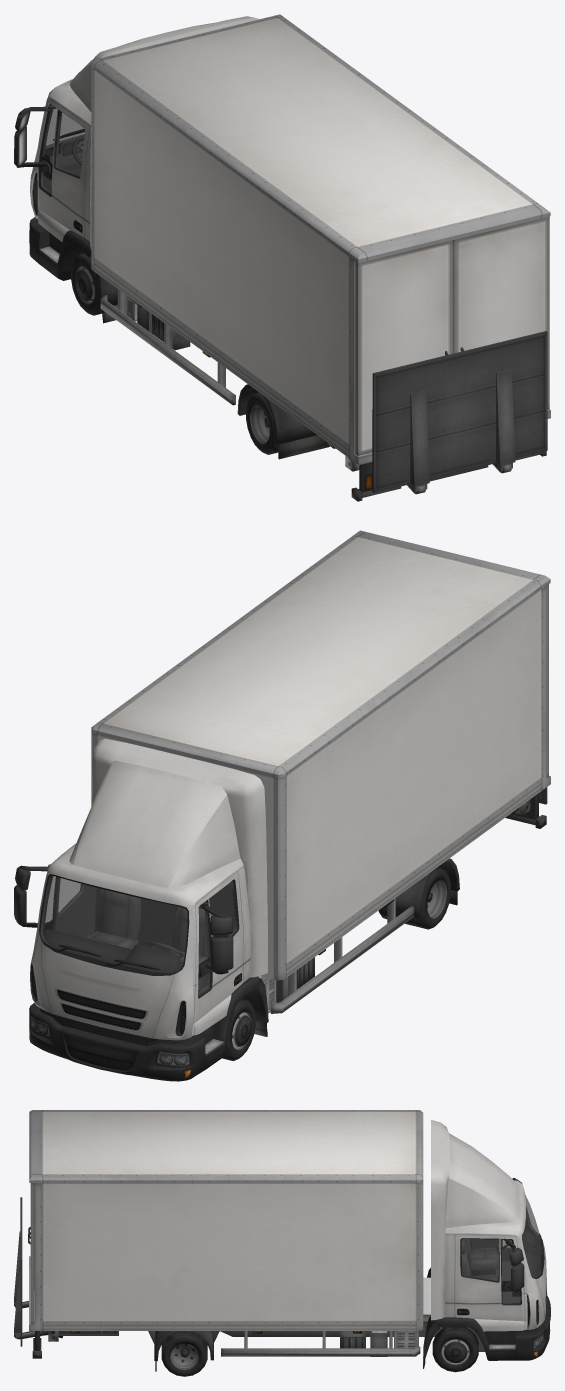
File: 小货车Draco.glb
3 renders of one model, top to bottom at view 1: azimuth 30°, elevation 25°; view 2: azimuth 150°, elevation 25°; view 3: azimuth 270°, elevation 25°, orthographic. The views are drawn at different scales.
Parts seen in each view (by area): view 1: MediumTruck01_MediumTruck01_0, Elevator02_MediumTruck01_0, DoorL_MediumTruck01_0, DoorR_MediumTruck01_0, MediumTruck01_MediumTruck01Glass_0, WheelBL007_MediumTruck01_0, WheelFL007_MediumTruck01_0; view 2: MediumTruck01_MediumTruck01_0, MediumTruck01_MediumTruck01Glass_0, WheelBL007_MediumTruck01_0, WheelFL007_MediumTruck01_0; view 3: MediumTruck01_MediumTruck01_0, MediumTruck01_MediumTruck01Glass_0, WheelFR006_MediumTruck01_0, WheelBR007_MediumTruck01_0, Elevator02_MediumTruck01_0, DoorR_MediumTruck01_0.
Part boxes in pixels (left/top/right/bottom): MediumTruck01_MediumTruck01_0: left=14, top=14, right=550, bottom=501; Elevator02_MediumTruck01_0: left=372, top=331, right=547, bottom=492; DoorL_MediumTruck01_0: left=355, top=240, right=453, bottom=455; DoorR_MediumTruck01_0: left=453, top=216, right=549, bottom=409; MediumTruck01_MediumTruck01Glass_0: left=41, top=108, right=84, bottom=194; WheelBL007_MediumTruck01_0: left=246, top=392, right=278, bottom=454; WheelFL007_MediumTruck01_0: left=71, top=253, right=102, bottom=315; MediumTruck01_MediumTruck01_0: left=14, top=530, right=550, bottom=1081; MediumTruck01_MediumTruck01Glass_0: left=41, top=876, right=236, bottom=995; WheelBL007_MediumTruck01_0: left=378, top=867, right=450, bottom=929; WheelFL007_MediumTruck01_0: left=222, top=998, right=255, bottom=1061; MediumTruck01_MediumTruck01_0: left=29, top=1110, right=550, bottom=1371; MediumTruck01_MediumTruck01Glass_0: left=462, top=1194, right=542, bottom=1303; WheelFR006_MediumTruck01_0: left=432, top=1326, right=478, bottom=1372; WheelBR007_MediumTruck01_0: left=161, top=1332, right=207, bottom=1376; Elevator02_MediumTruck01_0: left=14, top=1197, right=22, bottom=1346; DoorR_MediumTruck01_0: left=28, top=1183, right=34, bottom=1324.
Bounding box in the file's own units: 2.93 × 3.55 × 8.5.
Materials: 2 (2 with a texture image).
